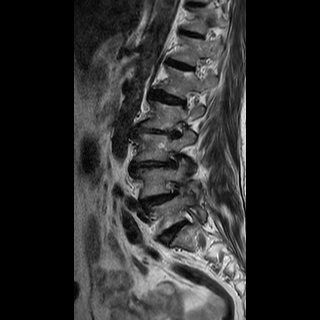LFS0: (159, 143, 186, 173)
